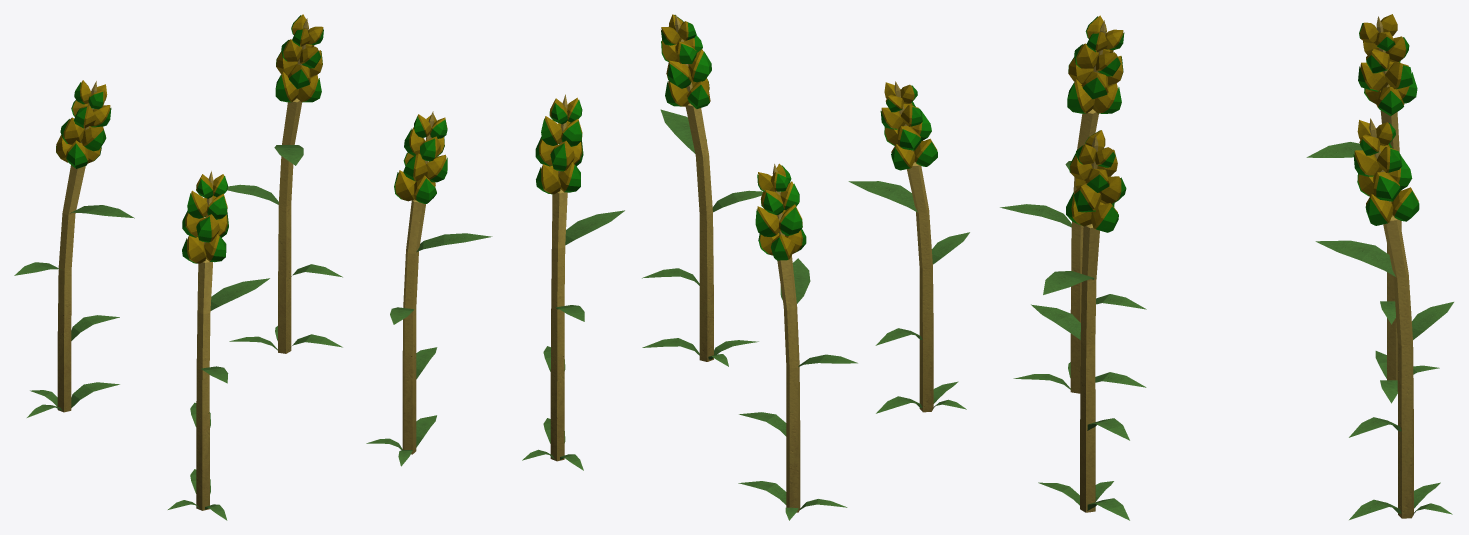
File: grains.glb
3 views of the same model, side by side, from view 1: azimuth 30°, elevation 25°; view 2: azimuth 150°, elevation 25°; view 3: azimuth 270°, elevation 25° (orthographic). The views are drawn at different scales.
Parts seen in each view (by area): view 1: Grain; view 2: Grain; view 3: Grain.
Part boxes in pixels (left/top/right/bottom): Grain: left=14, top=14, right=492, bottom=520; Grain: left=522, top=14, right=969, bottom=520; Grain: left=1000, top=14, right=1453, bottom=520.
Bounding box in the file's own units: 1.56 × 1.52 × 1.56.
Materials: 1 (1 with a texture image).
